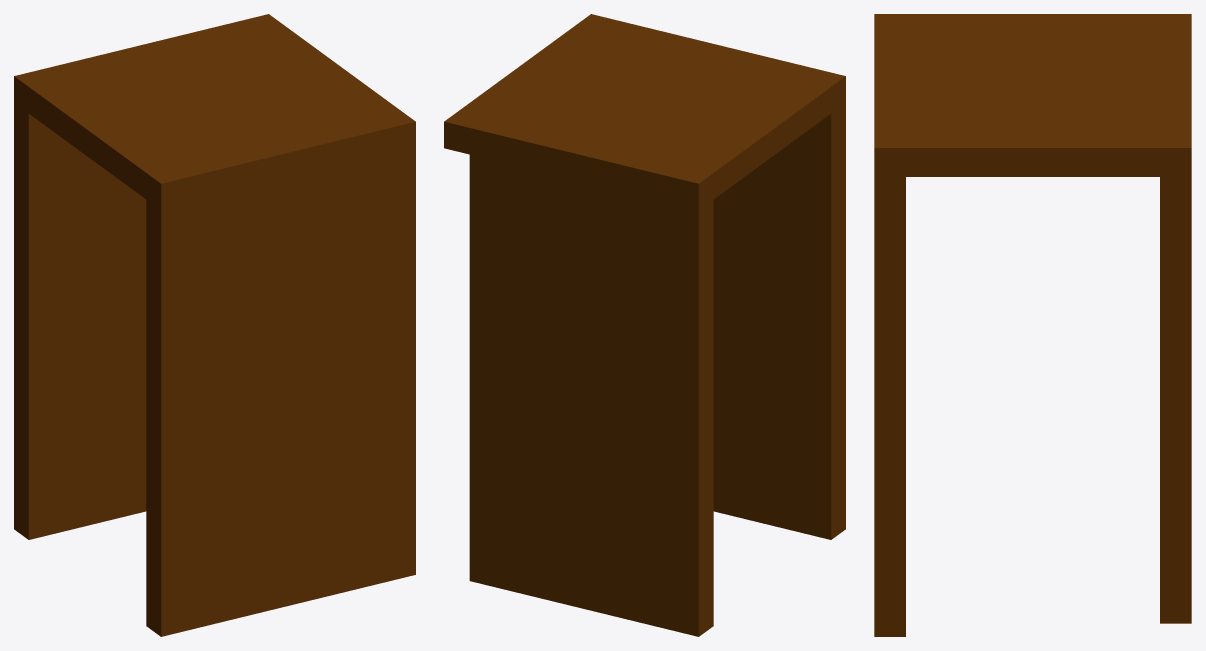
Rendered from --1-SpeakEZ doorframe.obj.
3 renders of one model, left to right at view 1: azimuth 30°, elevation 25°; view 2: azimuth 150°, elevation 25°; view 3: azimuth 270°, elevation 25°, orthographic. The views are drawn at different scales.
Parts seen in each view (by area): view 1: SpeakEZ doorframe; view 2: SpeakEZ doorframe; view 3: SpeakEZ doorframe.
Part boxes in pixels (x1,y1,x2,y2): SpeakEZ doorframe: [14, 14, 415, 636]; SpeakEZ doorframe: [444, 14, 845, 636]; SpeakEZ doorframe: [874, 14, 1191, 636].
Size of the model in its own units: 1 by 1.7 by 1.
